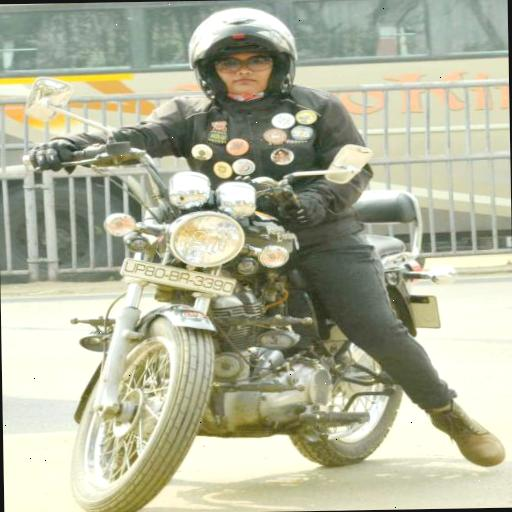helmet: (87, 2, 396, 452)
